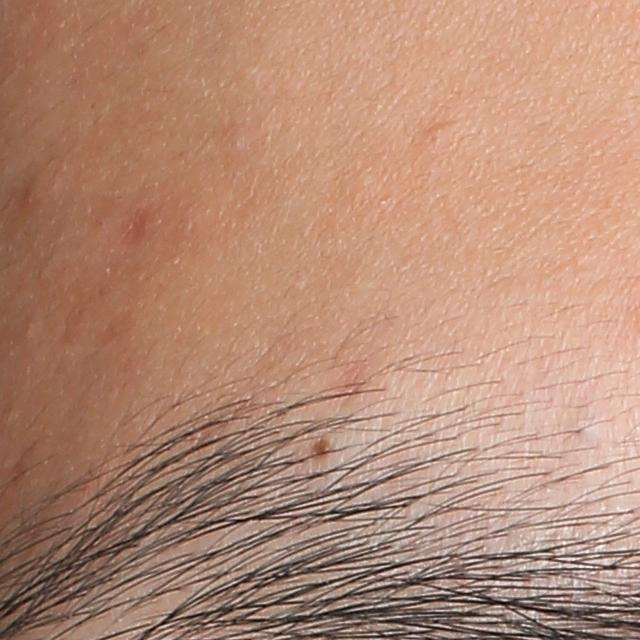comedo: (424, 121, 453, 150)
nevus: (307, 436, 336, 467)
